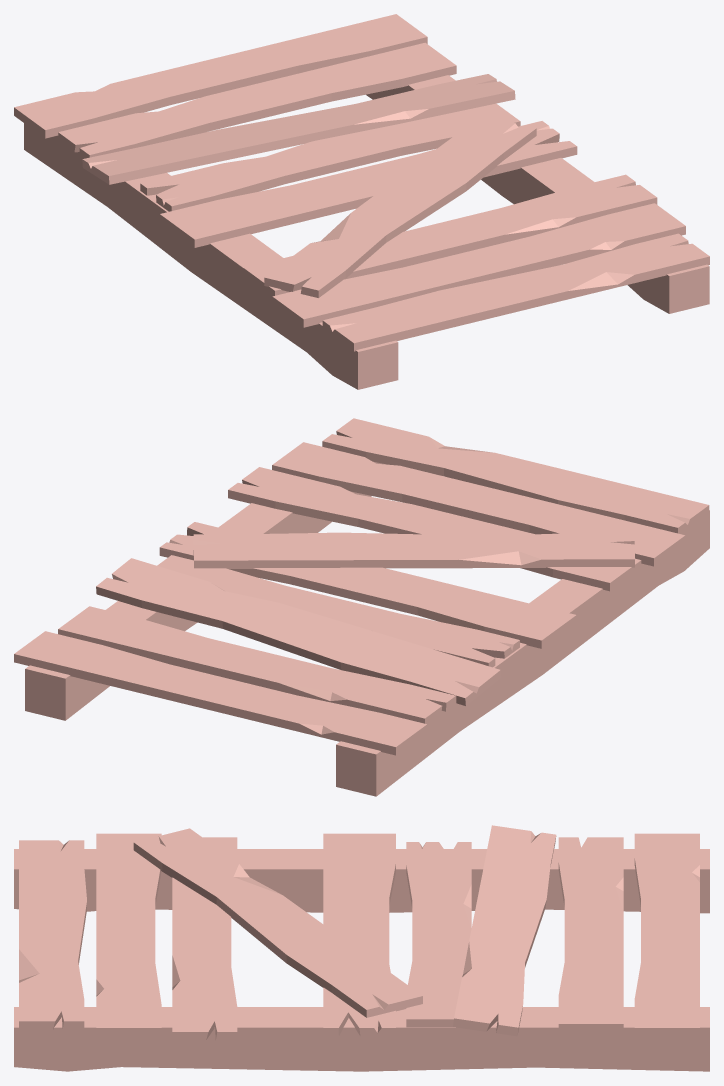
Rendered from Mega_Asset_s_Pack_Cube_008.FBX.
3 views of the same model, one above another, from view 1: azimuth 30°, elevation 25°; view 2: azimuth 150°, elevation 25°; view 3: azimuth 270°, elevation 25° (orthographic). The views are drawn at different scales.
Parts seen in each view (by area): view 1: Mega_Asset_s_Pack_Cube_008; view 2: Mega_Asset_s_Pack_Cube_008; view 3: Mega_Asset_s_Pack_Cube_008.
Part boxes in pixels (x1,y1,x2,y2): Mega_Asset_s_Pack_Cube_008: [14, 14, 709, 389]; Mega_Asset_s_Pack_Cube_008: [14, 418, 709, 796]; Mega_Asset_s_Pack_Cube_008: [14, 825, 709, 1071].
Size of what is drawn, in the model's own units: 469 by 687 by 67.15.
